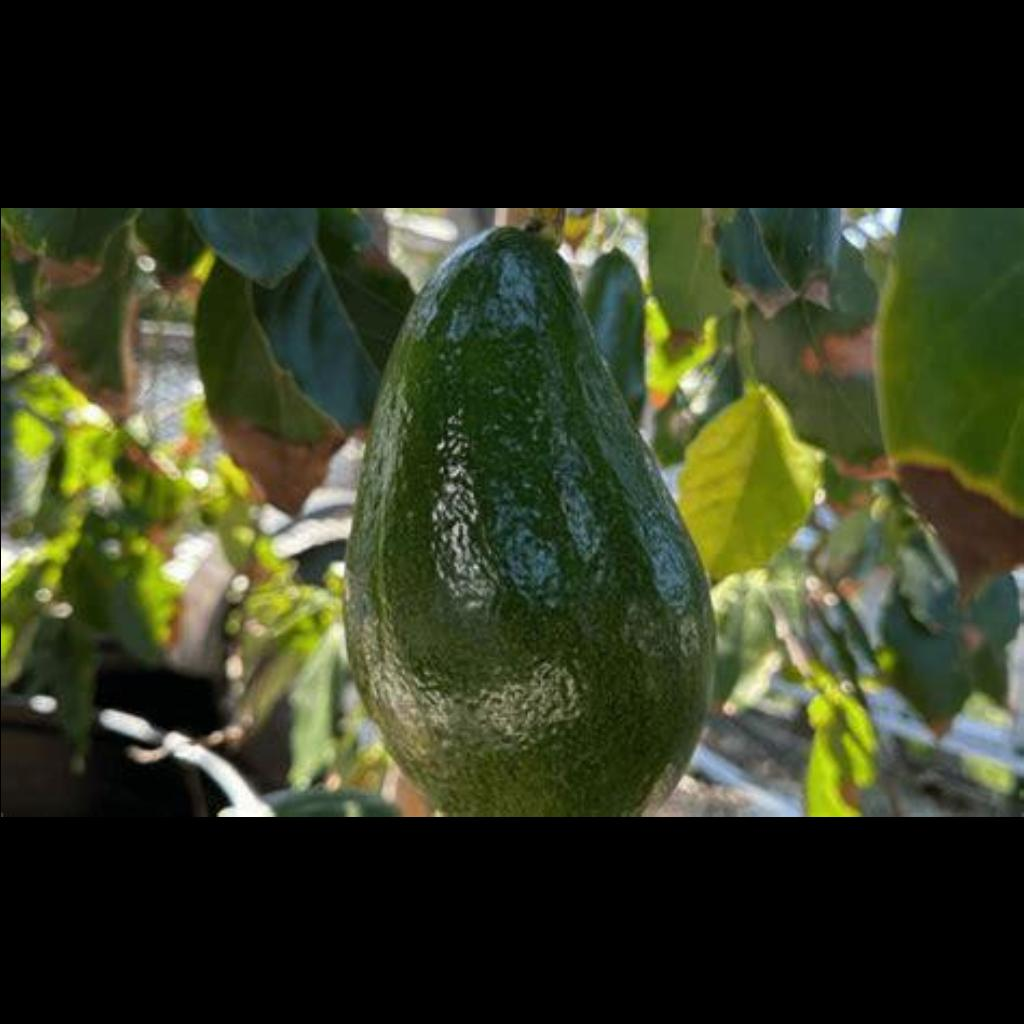Healthy: (343, 221, 717, 809)
